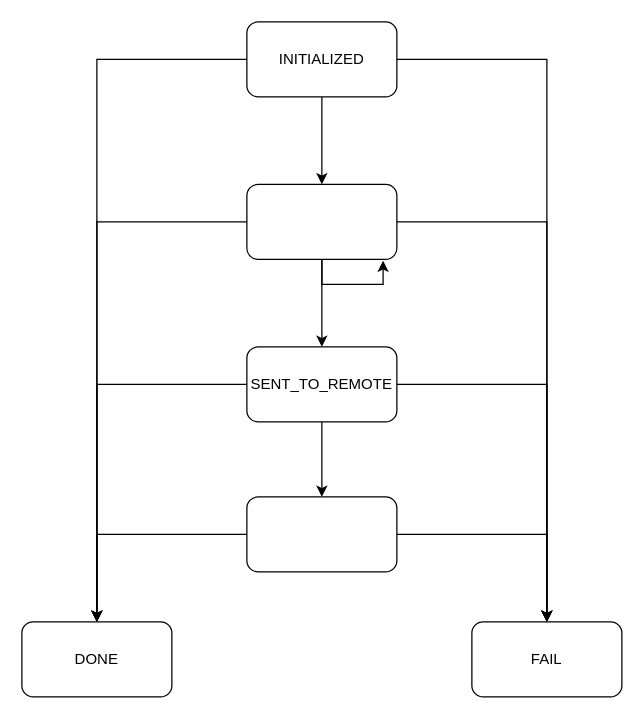
The diagram is 644 pixels wide and 719 high, and some of its shapes have lost their labels. The box of each missing label's shape, as (x1, y1, x2, y2) in pixels:
COMMIT: (246, 183, 397, 259)
ONGOING: (246, 496, 397, 572)
